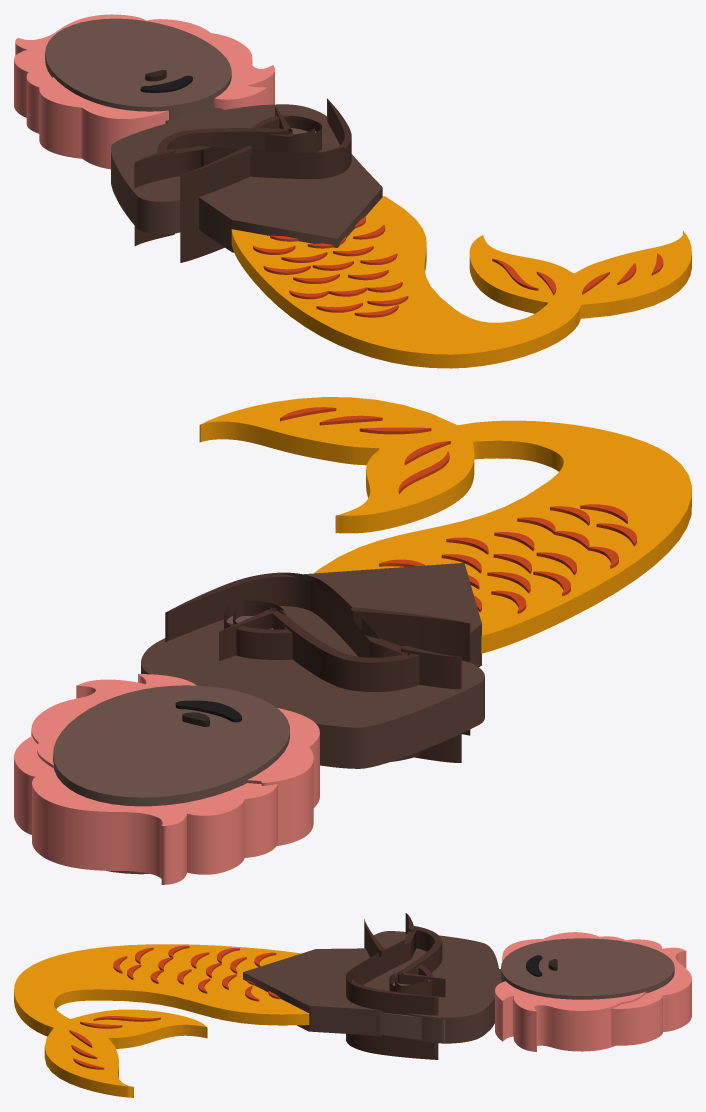
File: emoji_u1f9dc_1f3ff.glb
3 views of the same model, one above another, from view 1: azimuth 30°, elevation 25°; view 2: azimuth 150°, elevation 25°; view 3: azimuth 270°, elevation 25° (orthographic). The views are drawn at different scales.
Visible parts, largest first — view 1: emoji_u1f9dc_1f3ff; view 2: emoji_u1f9dc_1f3ff; view 3: emoji_u1f9dc_1f3ff.
Part boxes in pixels (bbox=[...]): emoji_u1f9dc_1f3ff: bbox=[14, 14, 691, 368]; emoji_u1f9dc_1f3ff: bbox=[14, 397, 691, 884]; emoji_u1f9dc_1f3ff: bbox=[14, 913, 691, 1097].
Bounding box in the file's own units: 0.0173 × 0.0038 × 0.0333.
